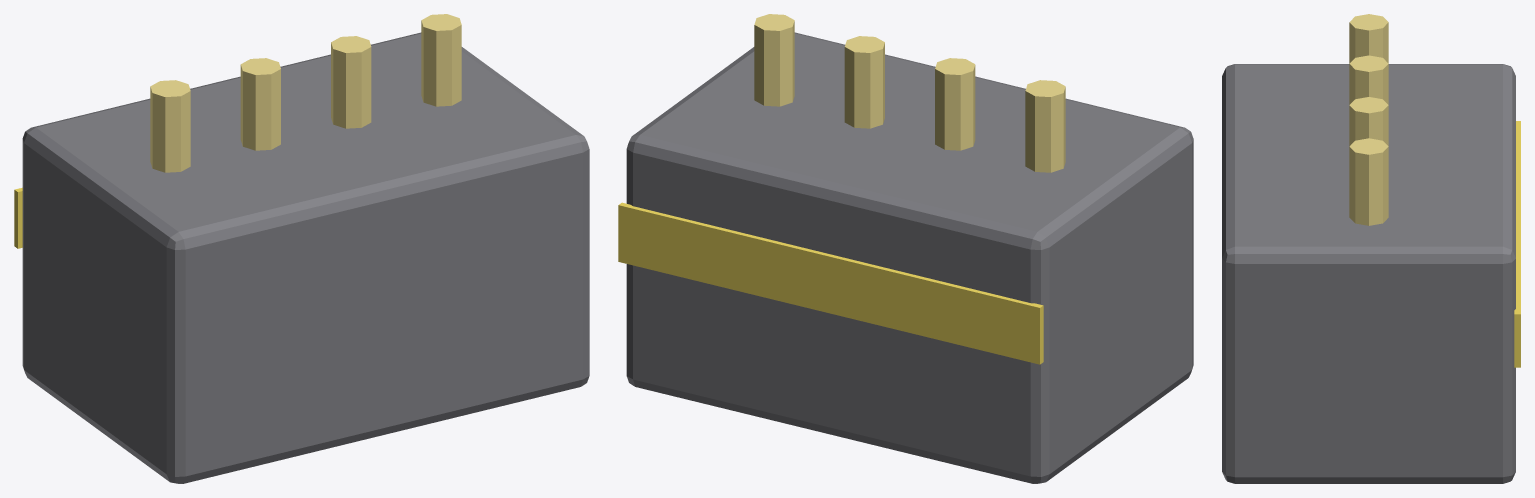
The model's file is Loot_AmmoBox_SMG.fbx.
3 renders of one model, left to right at view 1: azimuth 30°, elevation 25°; view 2: azimuth 150°, elevation 25°; view 3: azimuth 270°, elevation 25°, orthographic. The views are drawn at different scales.
Parts seen in each view (by area): view 1: Loot_AmmoBox_SMG; view 2: Loot_AmmoBox_SMG; view 3: Loot_AmmoBox_SMG.
Boxes of the visible parts, x1,y1,x2,y2 form: Loot_AmmoBox_SMG: (14,14,589,483); Loot_AmmoBox_SMG: (618,14,1193,483); Loot_AmmoBox_SMG: (1222,14,1520,483).
Size of the model in its own units: 0.14 by 0.104 by 0.0915.
